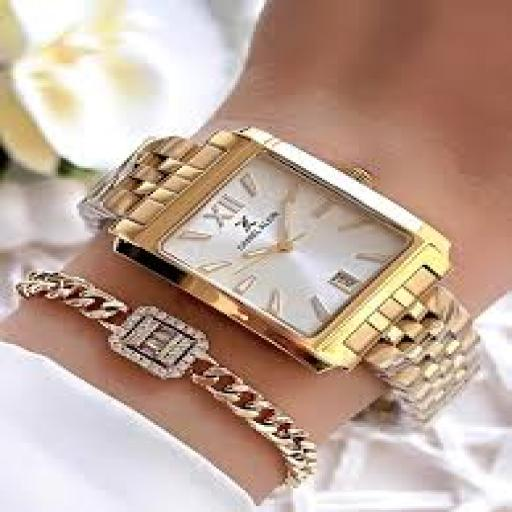KolSaati: (69, 95, 512, 440)
